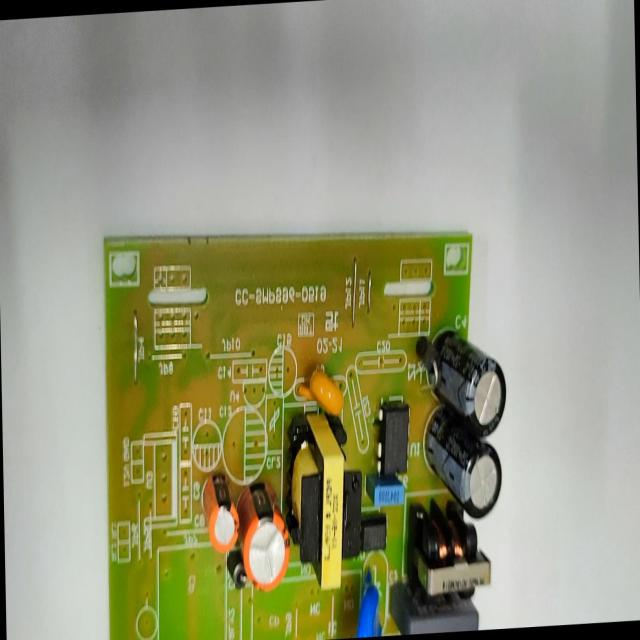Cap1: (240, 464, 292, 596)
Cap2: (202, 465, 240, 556)
Cap3: (426, 434, 503, 523)
Cap4: (428, 323, 506, 441)
MOSFET: (372, 398, 414, 479)
Mov: (349, 564, 386, 638)
Transformer: (407, 519, 498, 602)
